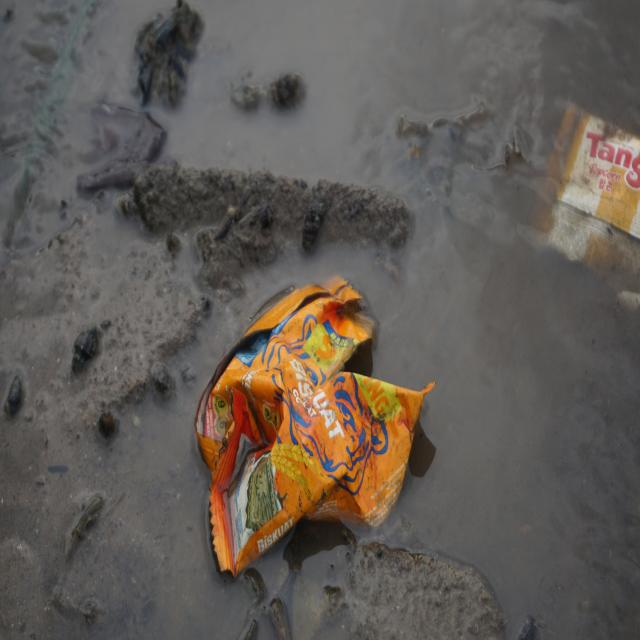Bungkus Makanan: (192, 270, 437, 580), (529, 97, 640, 310)
